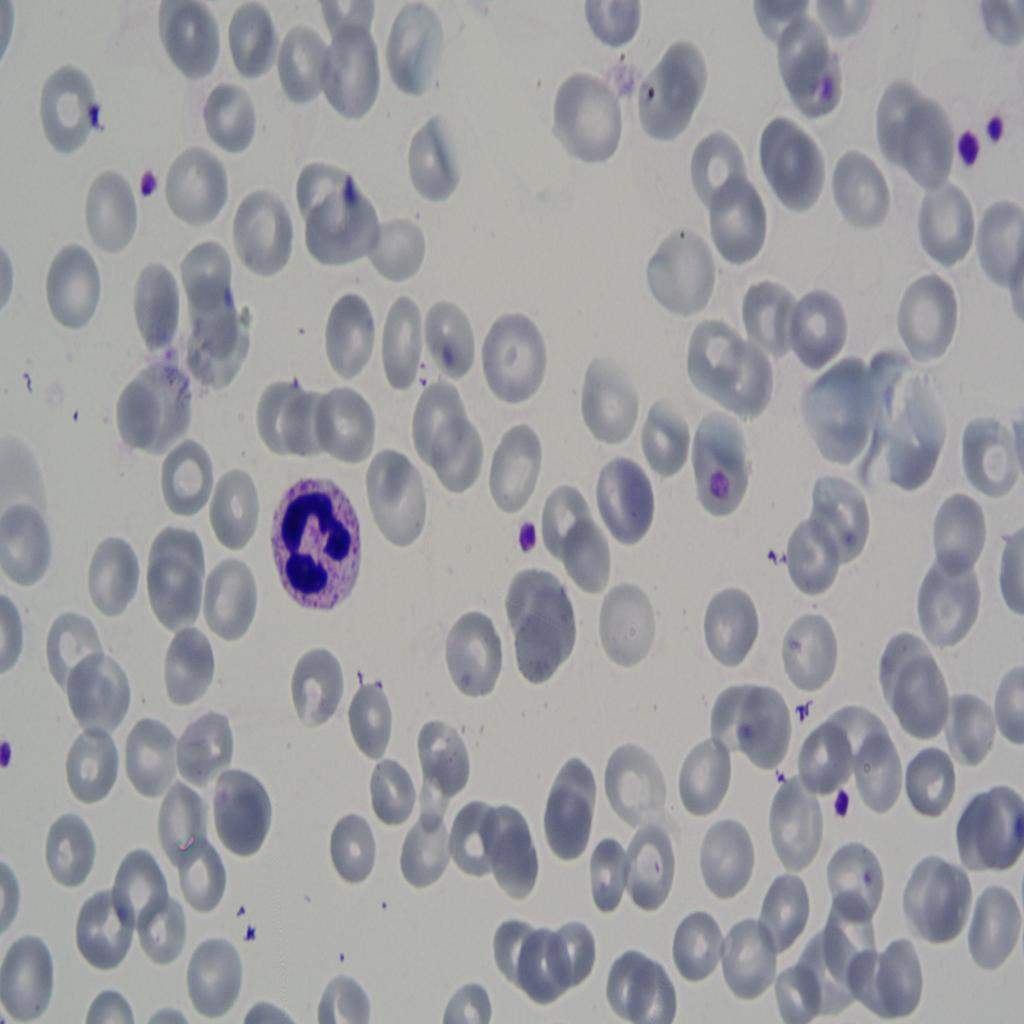Neutrofil: (269, 472, 363, 621)
Platelet: (504, 504, 551, 568), (956, 122, 985, 182), (708, 456, 738, 512), (334, 166, 362, 226), (830, 777, 857, 834), (983, 112, 1020, 153), (135, 166, 166, 205), (0, 724, 22, 772), (819, 68, 841, 116), (83, 93, 105, 137)
